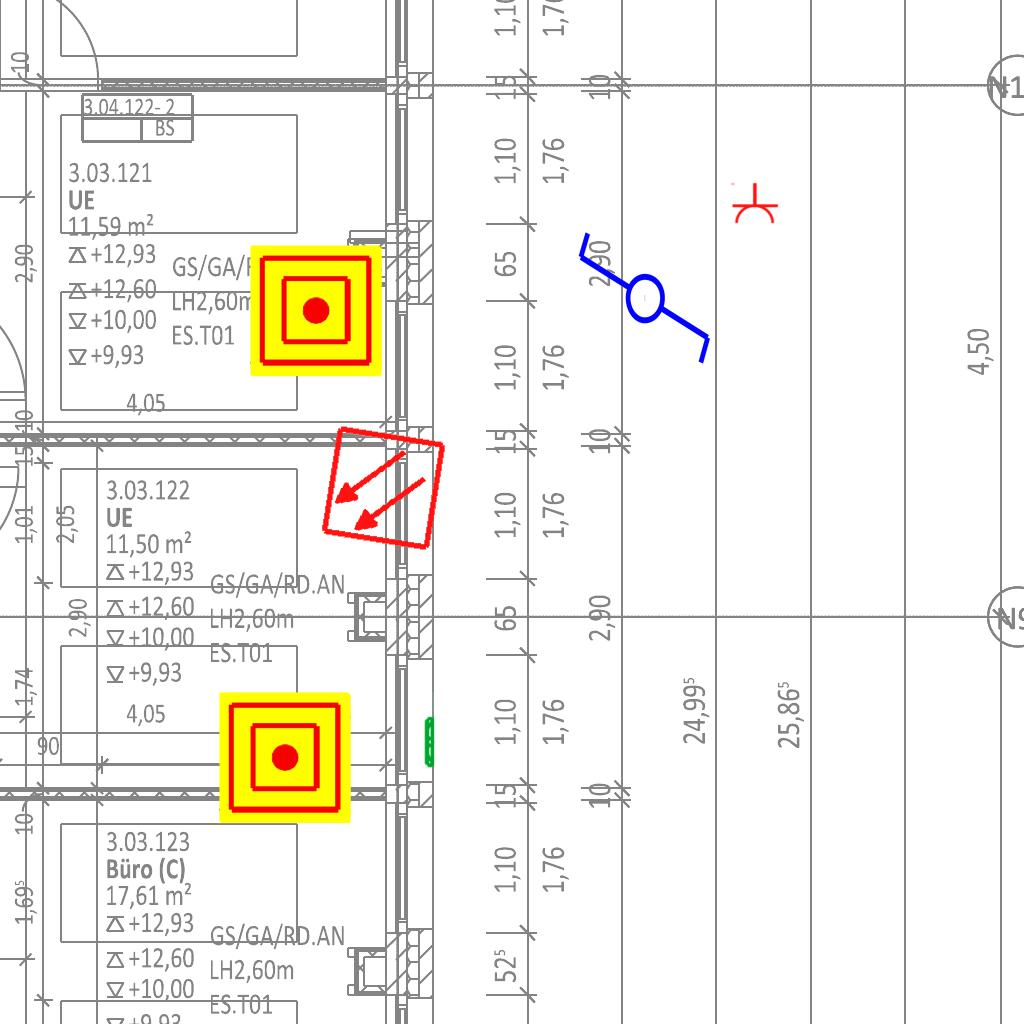NAM-Nichtautomatischer_Melder: (219, 692, 351, 824), (250, 245, 382, 377)
RMO_Rauchmelder_optischer: (318, 423, 449, 554)
Schukosteckdose_einfach: (729, 182, 779, 225)
Sicherheitsleuchte_Wandeinbau: (423, 690, 435, 769)
Wechselschalter: (571, 228, 715, 385)
